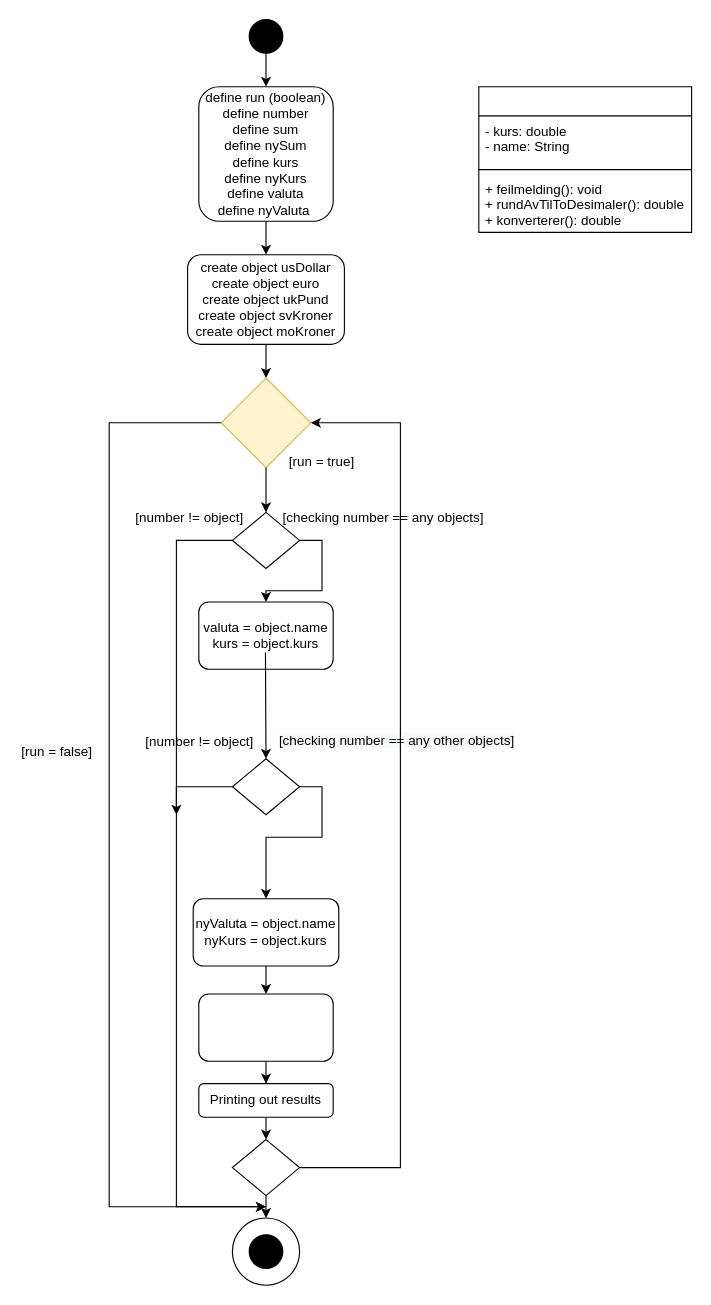
The diagram is 711 pixels wide and 1305 high, and some of its shapes have lost their labels. The box of each missing label's shape, as (x1, y1, x2, y2) in pixels:
Calling konverterer() Converting - objectvalue - to new objectvalue: (198, 993, 333, 1061)
ValutaKonverterer: (478, 86, 692, 232)
